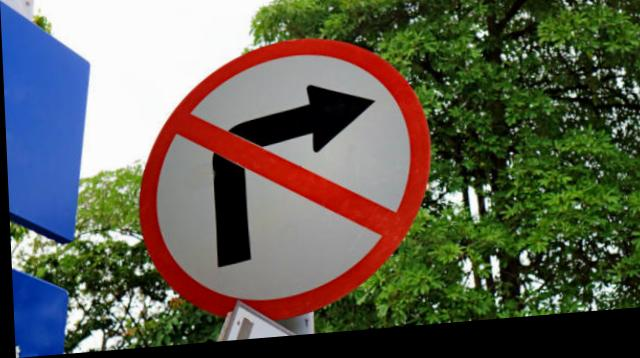not_turn_right: (127, 35, 433, 330)
